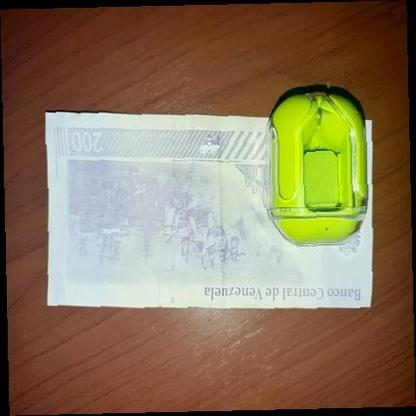two_hundred-back-vef: (44, 112, 374, 310)
